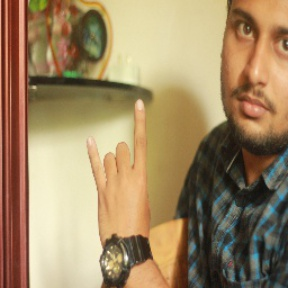V: (84, 100, 158, 249)
